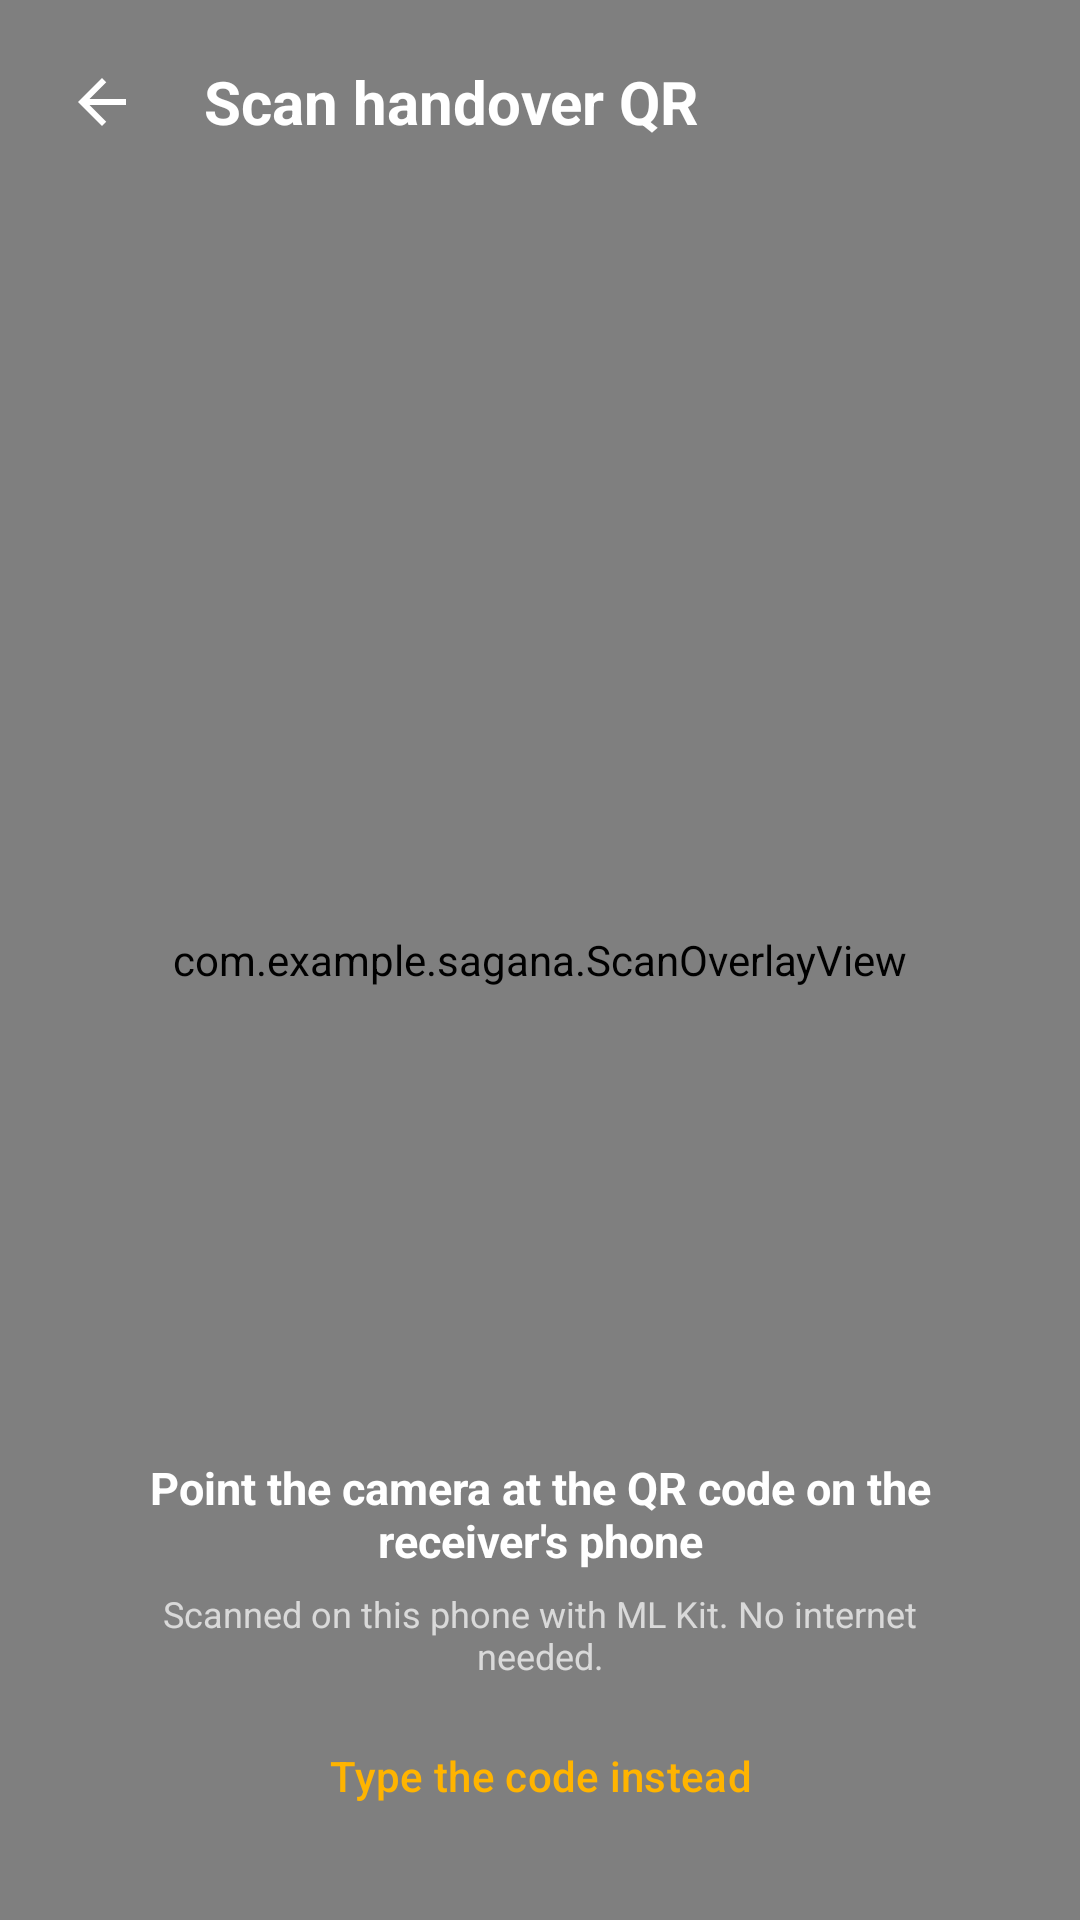

Screen size 1080x1920. Icon name, then its center in pixels as [x,y]:
Back: [102,102]
